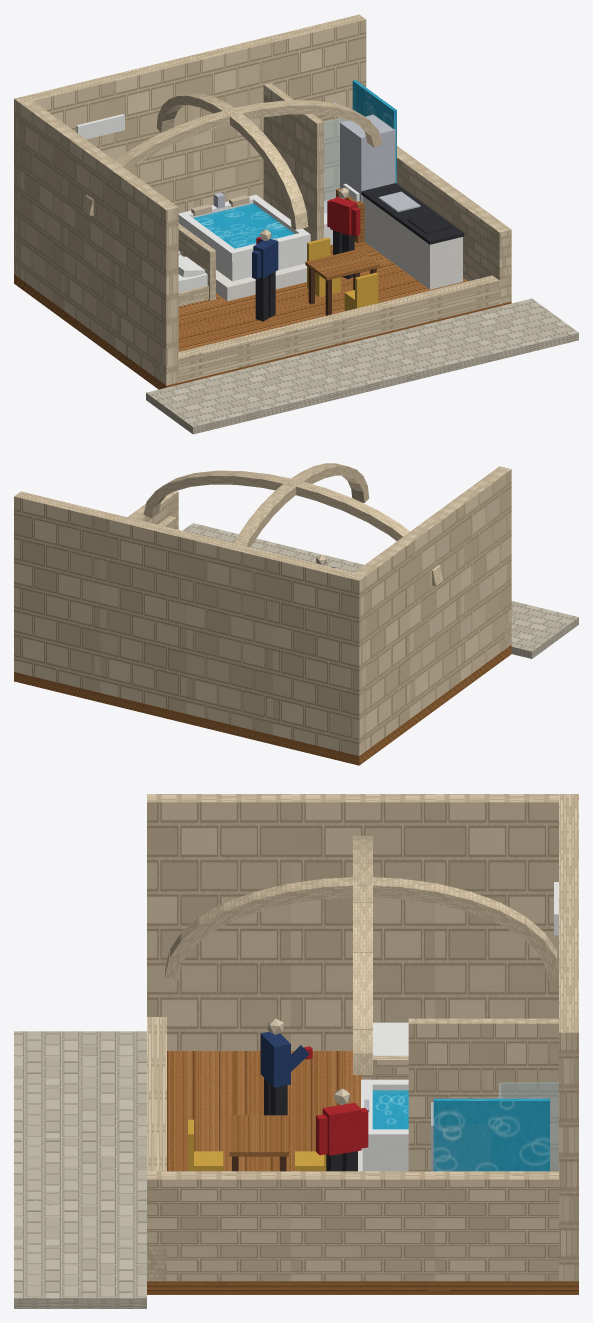
File: coppia4_nino.glb
3 views of the same model, one above another, from view 1: azimuth 30°, elevation 25°; view 2: azimuth 150°, elevation 25°; view 3: azimuth 270°, elevation 25° (orthographic). The views are drawn at different scales.
Parts seen in each view (by area): view 1: Wall_N, Wall_W, Alley_Step, Wall_Front_Cut, Nino_Floor, Wall_E_Cut, Bath_WallW, Nino_Kitchen_cab, Alley_Step_sub, Nino_Kitchen_fridge, Nino_Floor_sub, Nino_Jacuzzi_water (+14 smaller); view 2: Wall_N, Wall_W, Nino_Floor_sub, Alley_Step, Wall_E_Cut, Alley_Step_sub, Star_Rib_A_r6, Star_Rib_A_r5, Star_Rib_A_r4, Star_Rib_A_r9, Star_Rib_A_r7; view 3: Wall_W, Wall_E_Cut, Alley_Step, Bath_WallW, Nino_Floor, Wall_N, Bath_LED, Nino_Floor_sub, Wall_Front_Cut, She, He, Nino_Table_top (+14 smaller).
Boxes of the visible parts, box(x1,y1,x2,y2) form: Wall_N: box(14, 14, 366, 278); Wall_W: box(21, 101, 178, 385); Alley_Step: box(146, 298, 578, 426); Wall_Front_Cut: box(159, 275, 499, 384); Nino_Floor: box(178, 241, 467, 351); Wall_E_Cut: box(397, 146, 511, 304); Bath_WallW: box(263, 83, 323, 241); Nino_Kitchen_cab: box(362, 196, 462, 289); Alley_Step_sub: box(146, 333, 578, 434); Nino_Kitchen_fridge: box(340, 114, 395, 201); Nino_Floor_sub: box(14, 274, 511, 389); Nino_Jacuzzi_water: box(193, 203, 294, 248); Wall_N: box(14, 491, 366, 755); Wall_W: box(350, 466, 511, 753); Nino_Floor_sub: box(14, 645, 511, 765); Alley_Step: box(183, 523, 578, 651); Wall_E_Cut: box(127, 491, 178, 529); Alley_Step_sub: box(511, 617, 578, 658); Star_Rib_A_r6: box(316, 487, 352, 511); Star_Rib_A_r5: box(342, 497, 377, 522); Star_Rib_A_r4: box(367, 509, 399, 534); Star_Rib_A_r9: box(234, 471, 269, 487); Star_Rib_A_r7: box(289, 479, 325, 500); Wall_W: box(147, 794, 558, 1050); Wall_E_Cut: box(147, 1171, 558, 1281); Alley_Step: box(14, 1031, 146, 1298); Bath_WallW: box(408, 1018, 558, 1171); Nino_Floor: box(167, 1051, 361, 1171); Wall_N: box(559, 794, 578, 1281); Bath_LED: box(433, 1098, 549, 1171); Nino_Floor_sub: box(147, 1281, 578, 1294); Wall_Front_Cut: box(147, 1017, 166, 1281); She: box(316, 1088, 368, 1171); He: box(260, 1018, 312, 1115); Nino_Table_top: box(229, 1115, 288, 1156).
Size of the model in its own units: 7.6 by 3.63 by 6.8.
14 materials, 14 textured.
